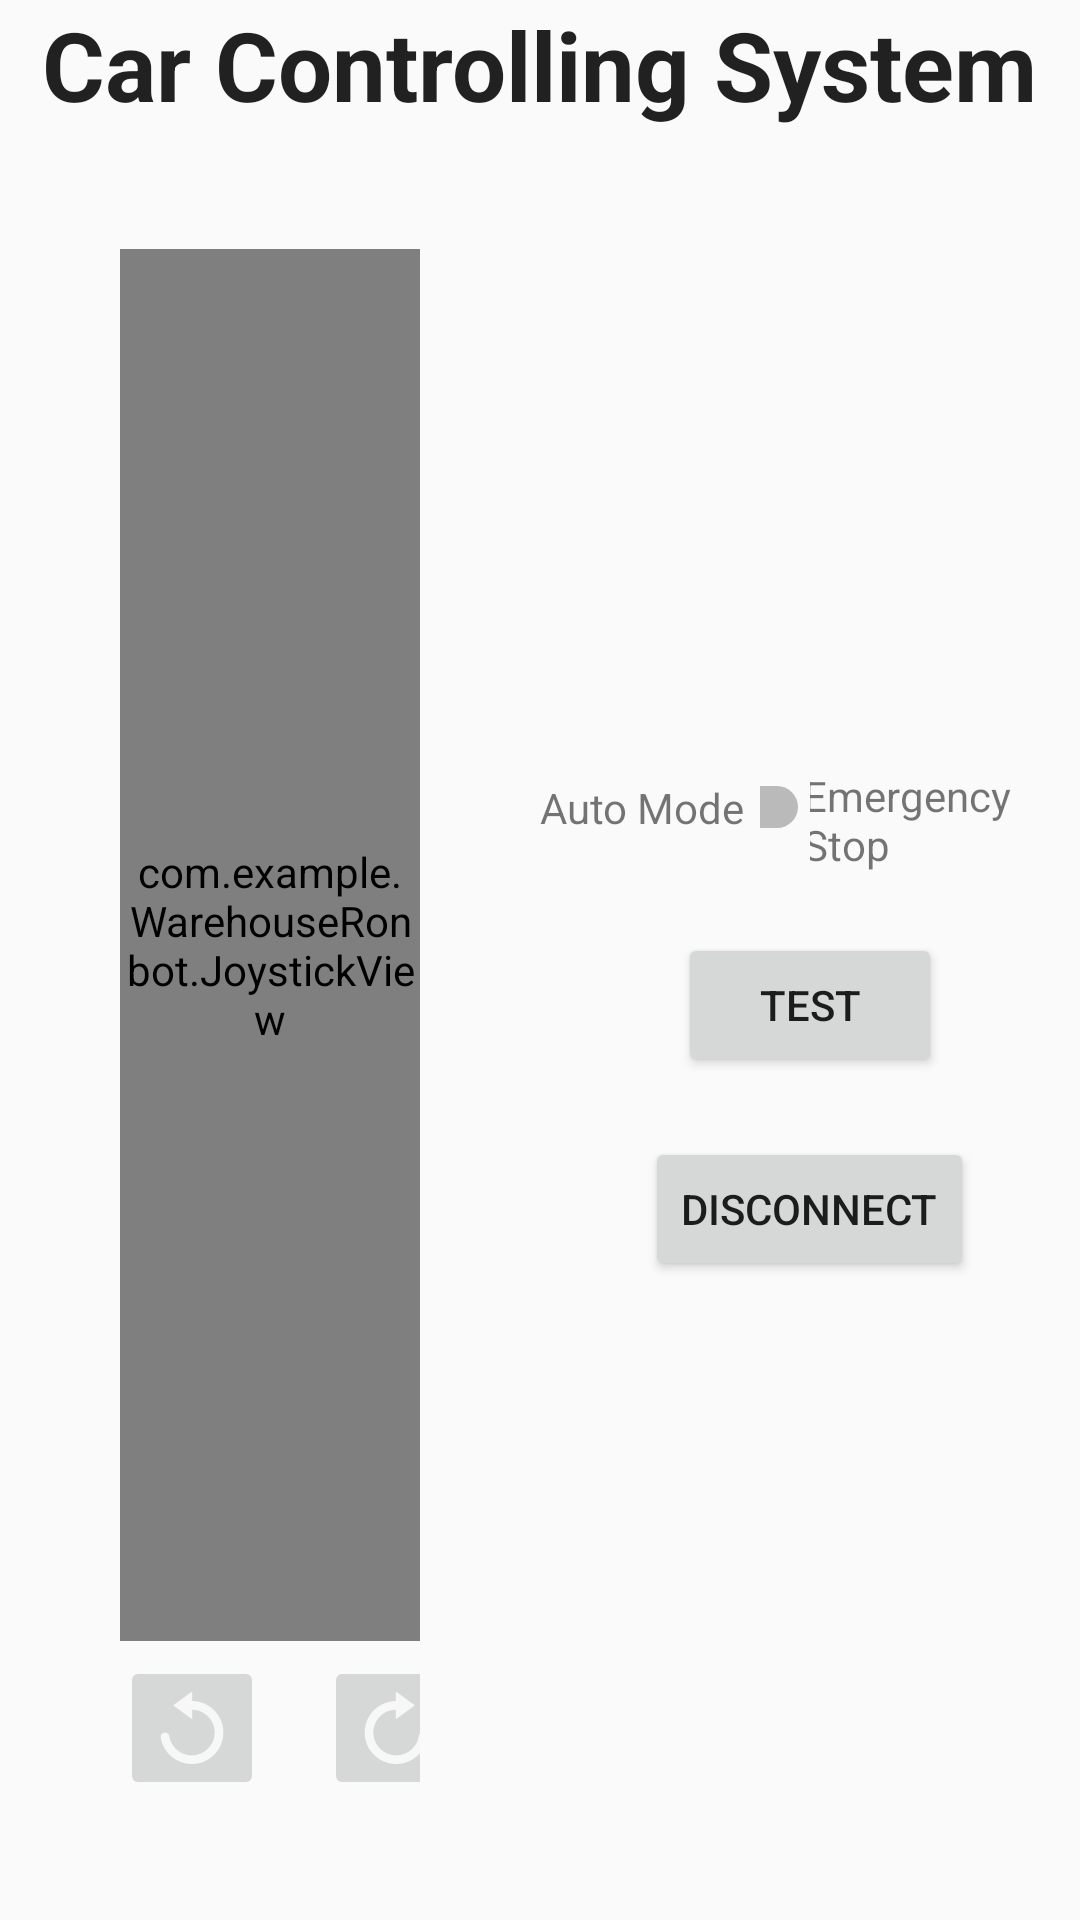

Where to tap for icons on this 1080px x 1920px app screen, as point (x, y):
rotate left: point (192, 1728)
